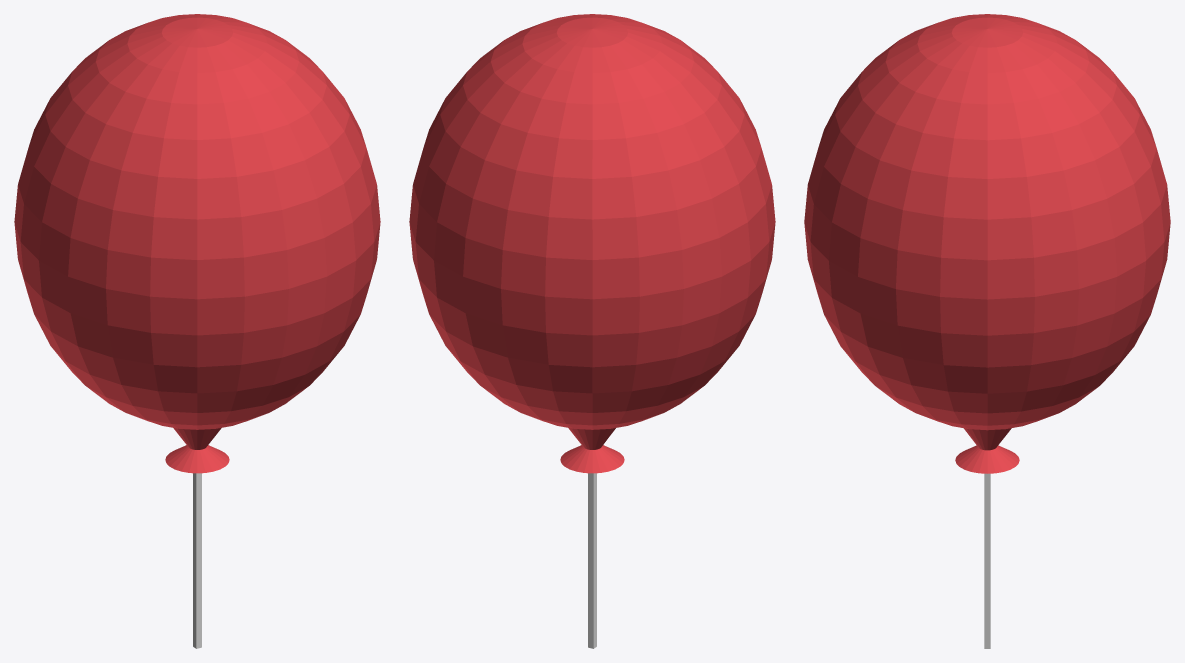
File: Globo.fbx
The picture shows the model from 3 angles, left to right: view 1: azimuth 30°, elevation 25°; view 2: azimuth 150°, elevation 25°; view 3: azimuth 270°, elevation 25°; orthographic projection.
Visible parts, largest first — view 1: Globo; view 2: Globo; view 3: Globo.
Boxes of the visible parts, x1,y1,x2,y2 form: Globo: [14, 14, 380, 648]; Globo: [409, 14, 775, 648]; Globo: [804, 14, 1170, 648].
Bounding box in the file's own units: 2028 × 3778 × 2028.
